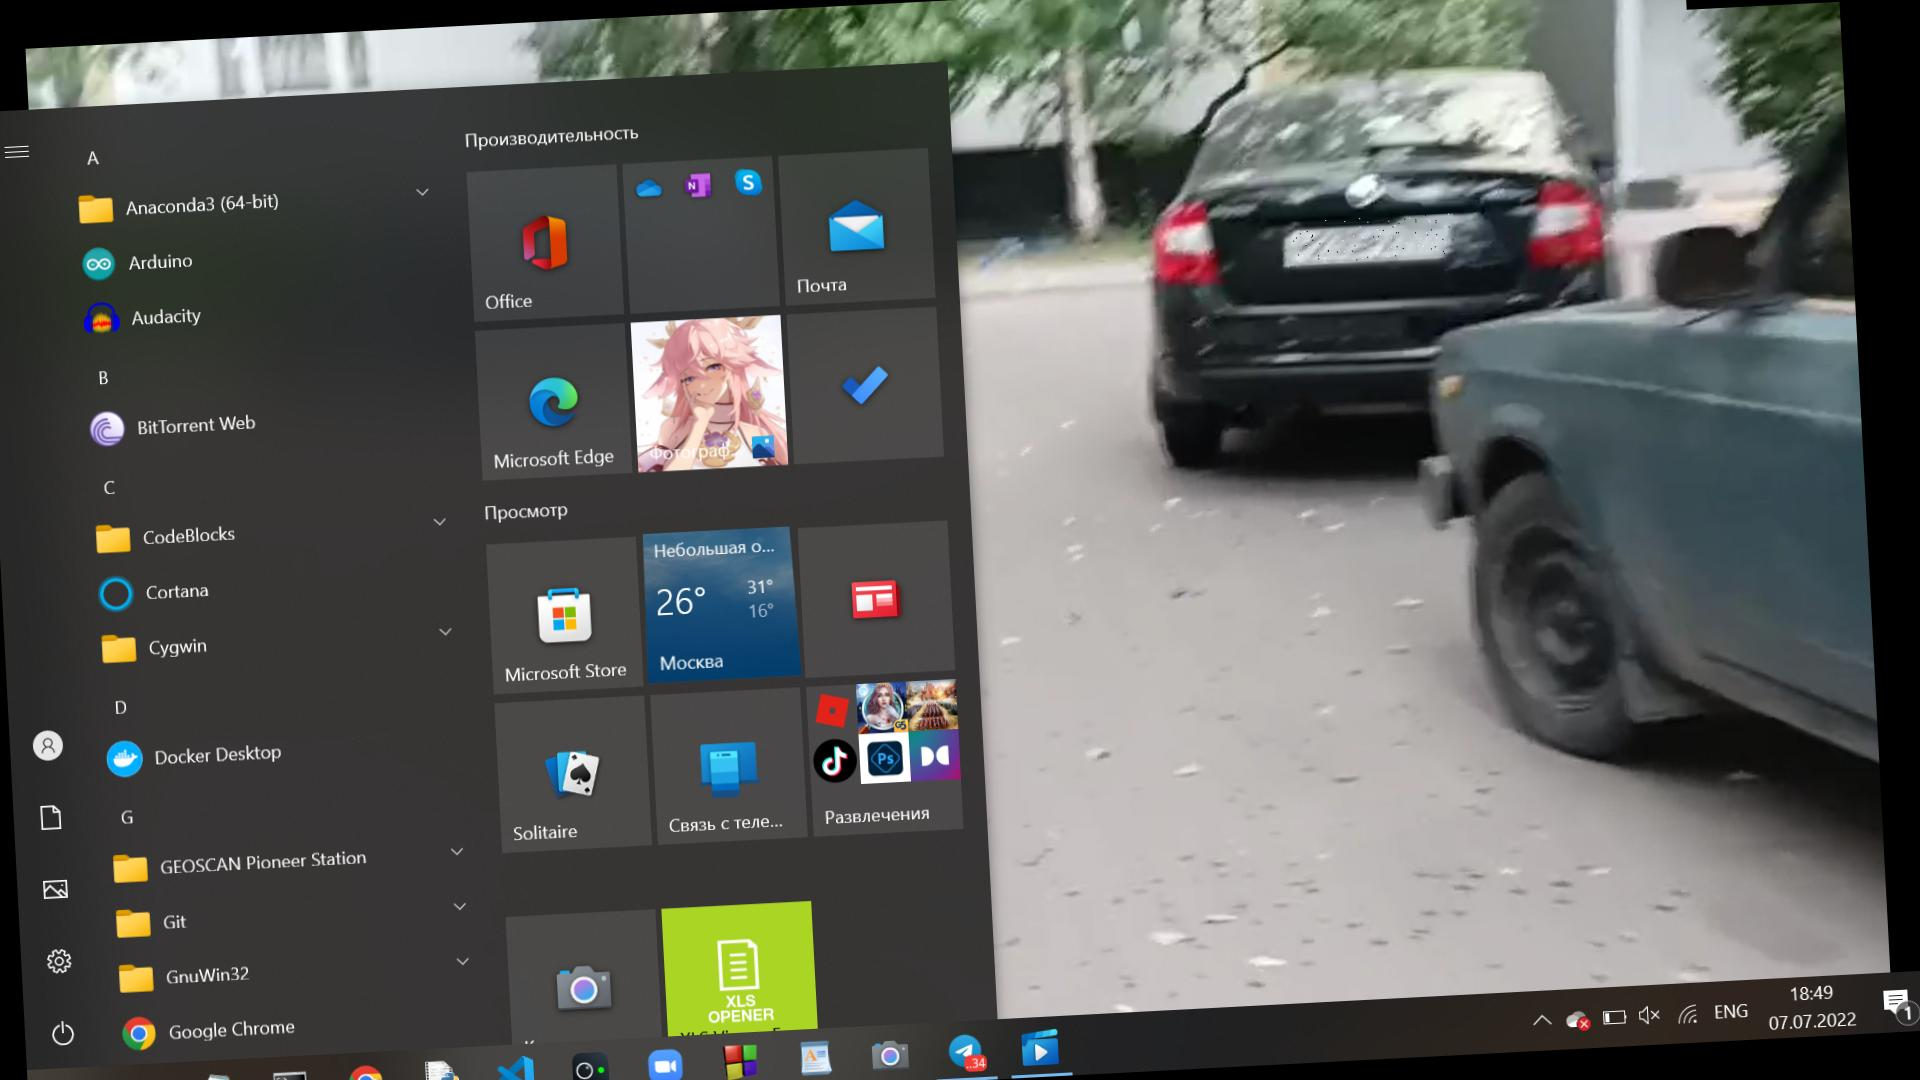plate: (1293, 215, 1456, 266)
